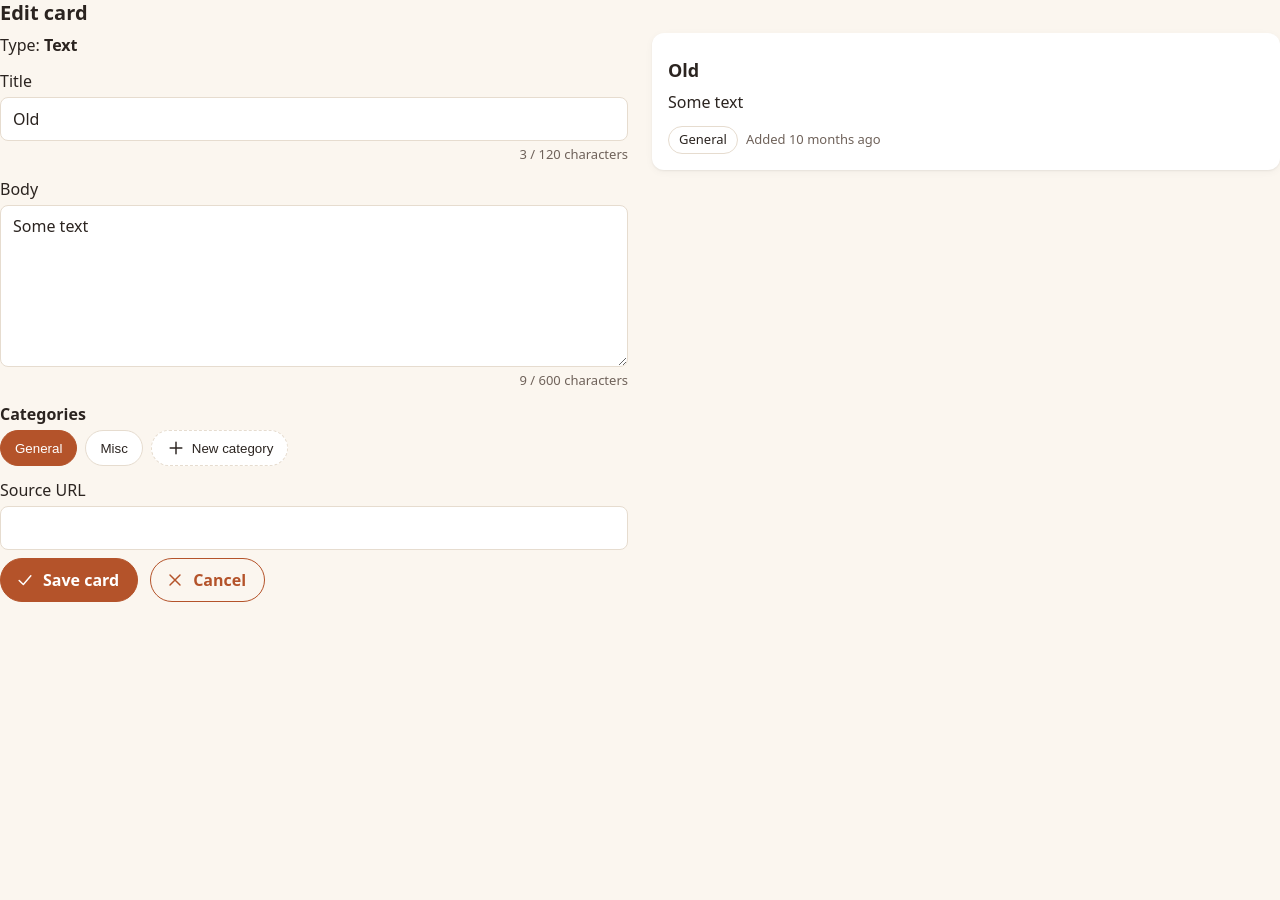
Test: CardEditor: instant category saves and the guard (022 + 023) › other unsaved edits still ask after a category save
This screenshot has width=1280, height=900.
Replace the text in the field labelled "Title" with "New" at (314, 119), box [0,97,628,141]
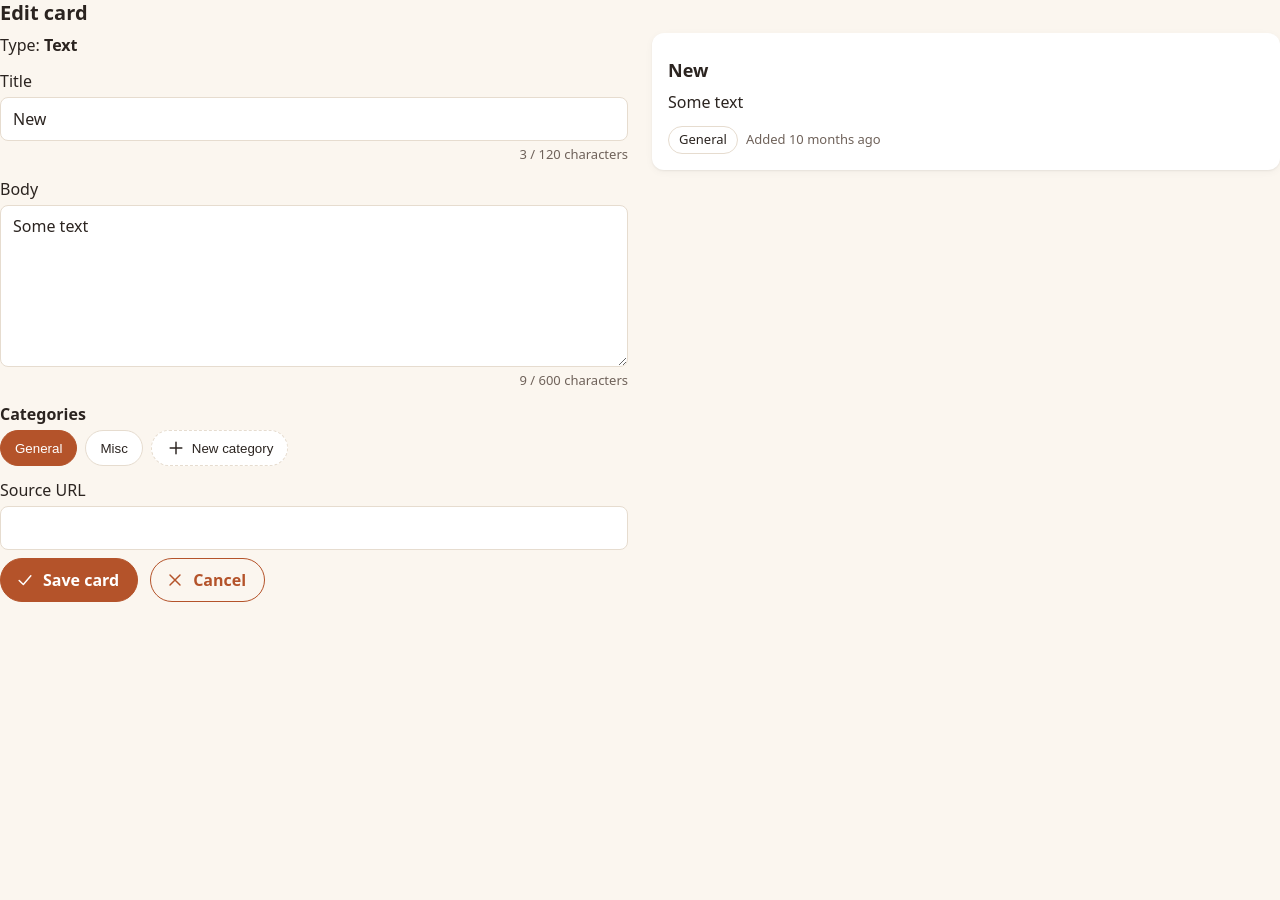
Click the button "Misc" at (114, 448), box [85,430,143,466]
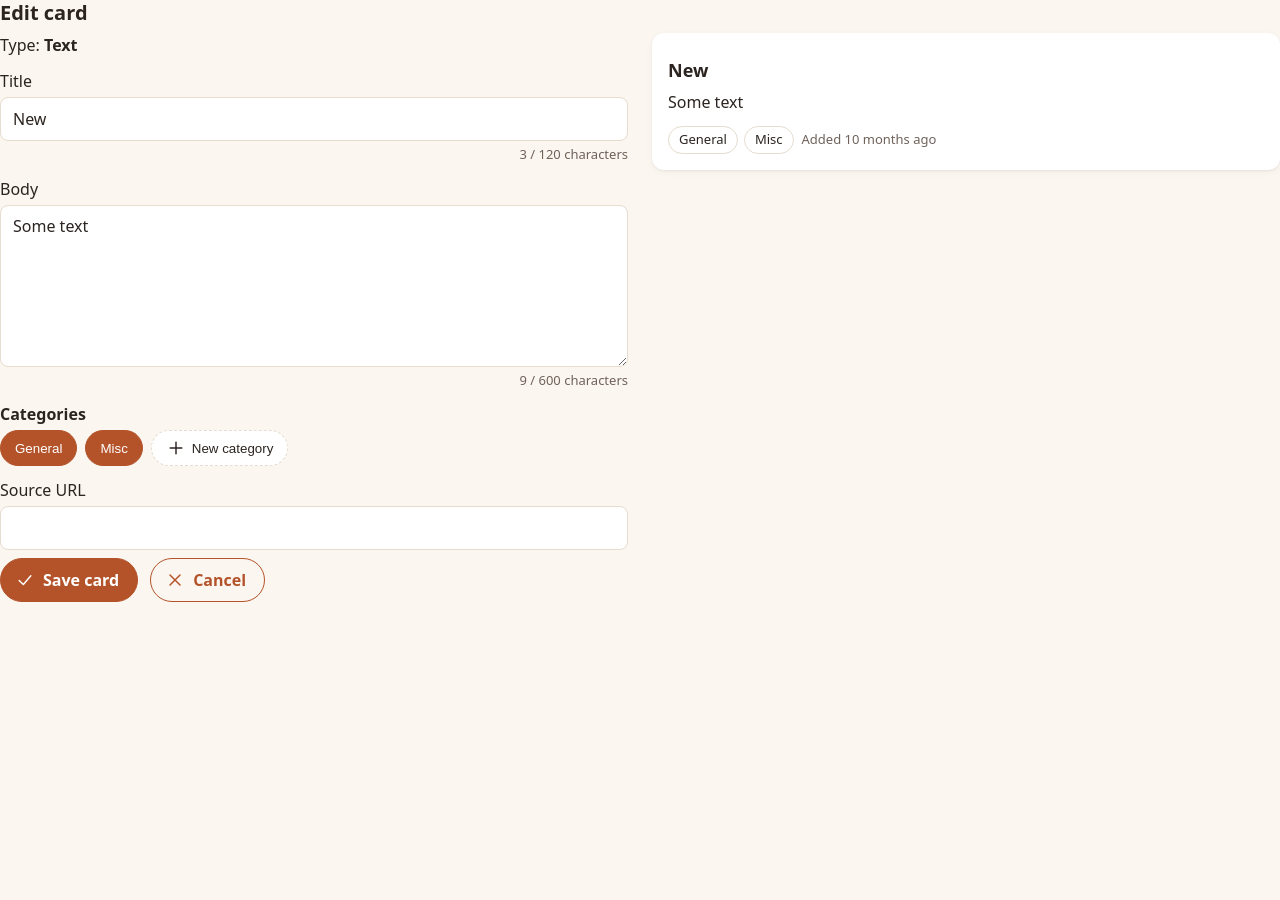
Click the button "Cancel" at (208, 580), box [150,558,265,602]
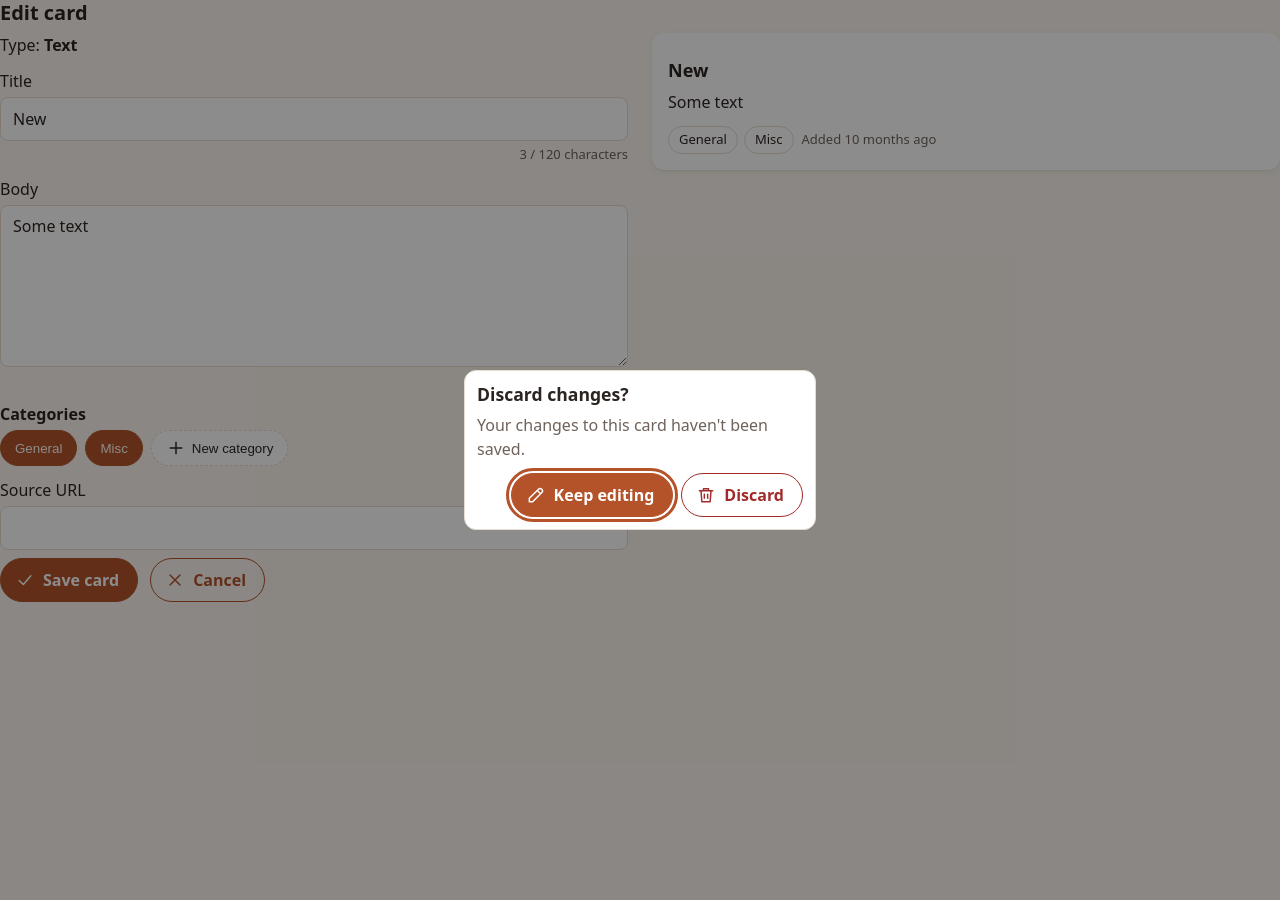
Expected: the dialog "Discard changes?" is shown, [464,370,816,530]
